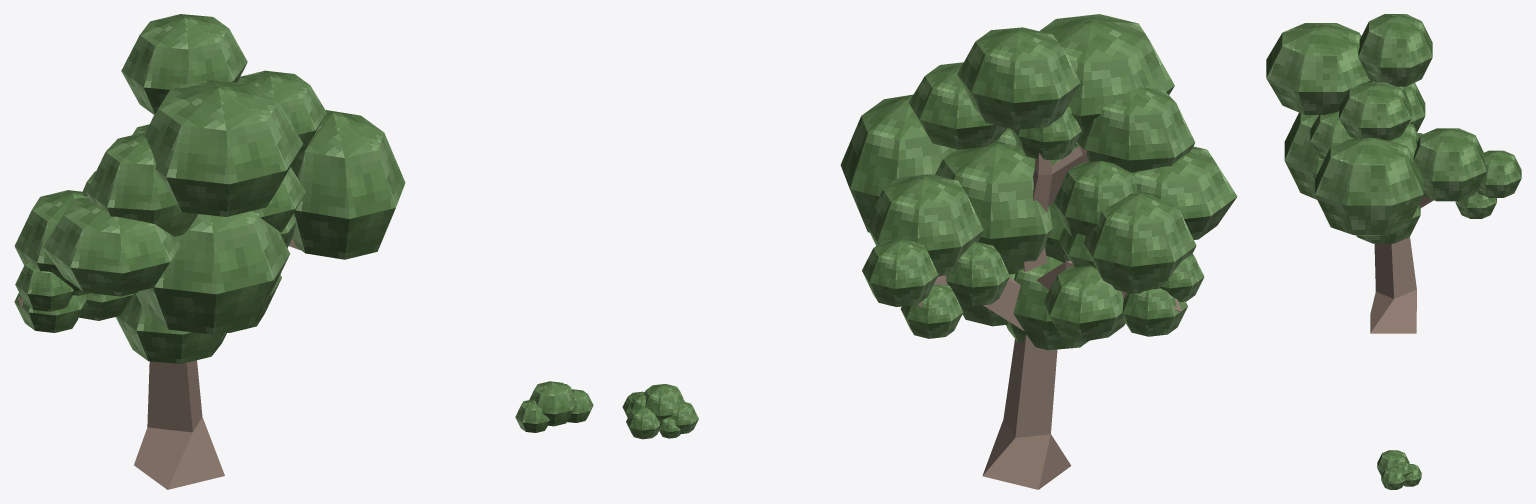
The model's file is Tree_.fbx.
3 renders of one model, left to right at view 1: azimuth 30°, elevation 25°; view 2: azimuth 150°, elevation 25°; view 3: azimuth 270°, elevation 25°, orthographic. The views are drawn at different scales.
Parts seen in each view (by area): view 1: sphere_9, sphere_13, sphere_8, sphere_19, sphere_7, TREE, sphere_26, sphere_23, sphere_6, sphere_14, sphere_15, sphere_20 (+4 smaller); view 2: TREE, sphere_7, sphere_22, sphere_9, sphere_14, sphere_21, sphere_8, sphere_26, sphere_19, sphere_6, sphere_16, sphere_27 (+12 smaller); view 3: sphere_8, sphere_9, sphere_7, sphere_21, TREE, sphere_6, sphere_13, sphere_12, sphere_11, sphere_10, sphere_17, sphere_14 (+4 smaller).
Boxes of the visible parts, x1,y1,x2,y2 form: sphere_9: [143, 80, 303, 216]; sphere_13: [135, 210, 290, 334]; sphere_8: [290, 110, 405, 259]; sphere_19: [43, 196, 180, 295]; sphere_7: [121, 14, 247, 114]; TREE: [18, 238, 299, 489]; sphere_26: [86, 132, 198, 236]; sphere_23: [115, 293, 226, 363]; sphere_6: [237, 70, 326, 155]; sphere_14: [14, 190, 91, 295]; sphere_15: [15, 261, 73, 311]; sphere_20: [14, 293, 86, 332]; TREE: [918, 145, 1181, 489]; sphere_7: [957, 27, 1080, 129]; sphere_22: [935, 143, 1052, 274]; sphere_9: [1039, 14, 1174, 146]; sphere_14: [1083, 192, 1196, 293]; sphere_21: [865, 174, 983, 276]; sphere_8: [840, 94, 955, 232]; sphere_26: [1074, 87, 1195, 172]; sphere_19: [1132, 146, 1237, 239]; sphere_6: [908, 62, 1007, 149]; sphere_16: [1044, 266, 1125, 341]; sphere_27: [1053, 161, 1136, 236]; sphere_8: [1315, 137, 1423, 236]; sphere_9: [1266, 23, 1372, 114]; sphere_7: [1358, 14, 1432, 86]; sphere_21: [1413, 128, 1486, 201]; TREE: [1370, 196, 1433, 333]; sphere_6: [1339, 82, 1411, 140]; sphere_13: [1284, 112, 1323, 199]; sphere_12: [1477, 150, 1521, 197]; sphere_11: [1310, 111, 1354, 159]; sphere_10: [1455, 191, 1496, 218]; sphere_17: [1356, 204, 1420, 243]; sphere_14: [1403, 82, 1425, 131].
Bounding box in the file's own units: 1420 × 1178 × 791.
Materials: 2 (2 with a texture image).
